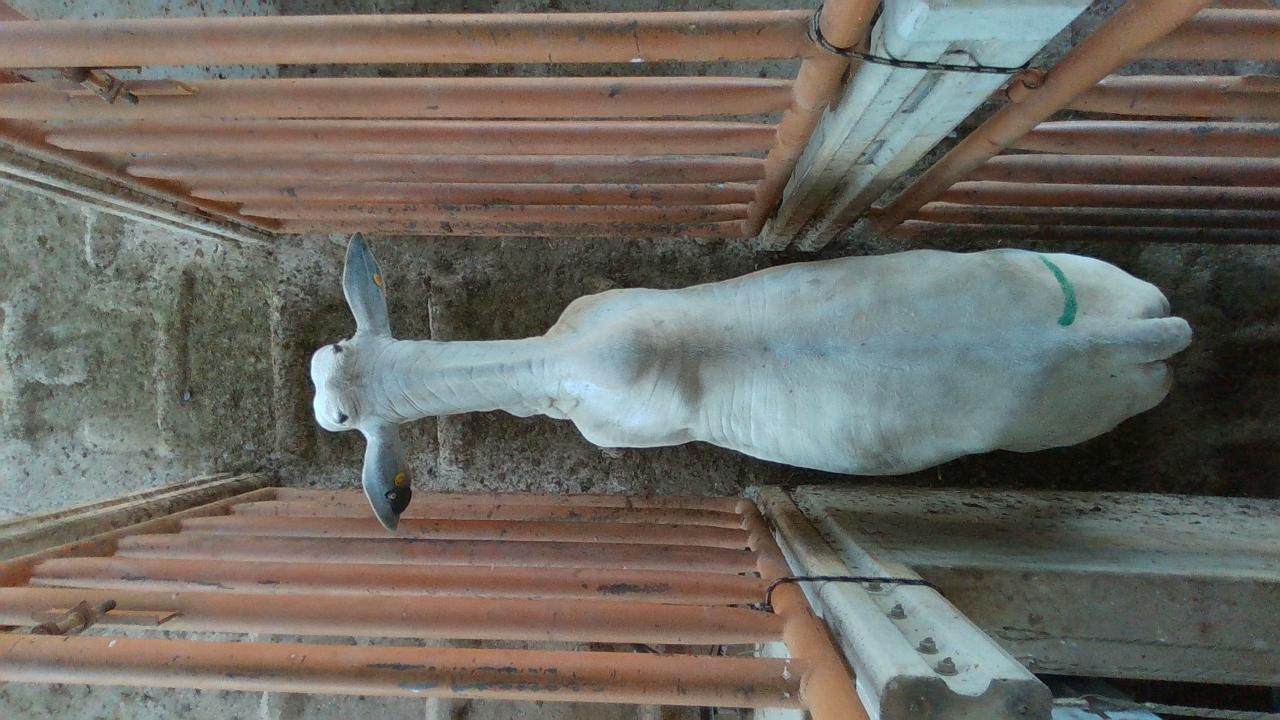cattle: (308, 230, 1194, 531)
